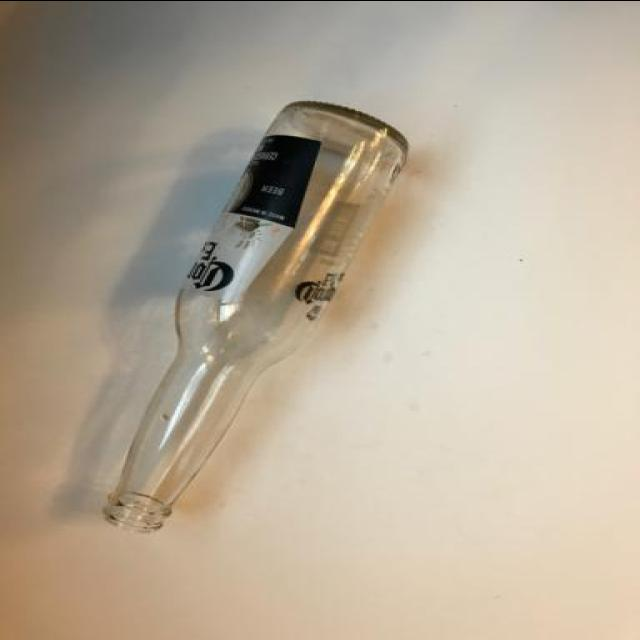litter: (100, 95, 412, 539)
